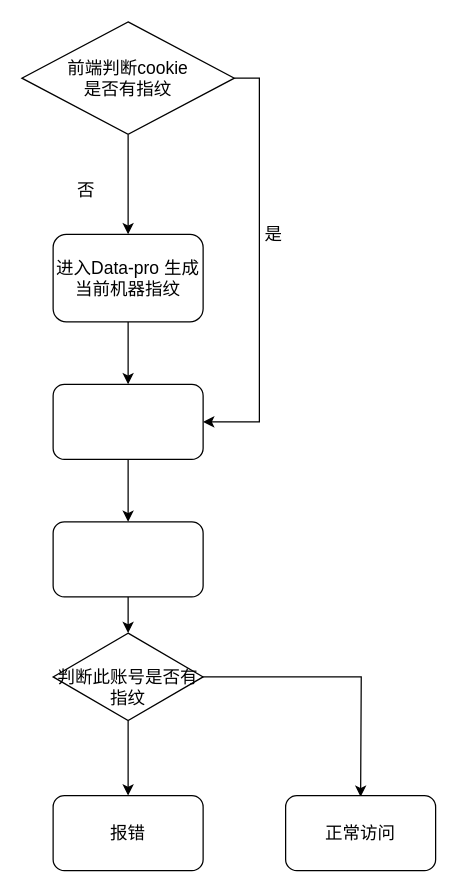
This 458x893 diagram has some shape labels left out. The centre of each missing label's shape, as x and y in pixels:
"后端redis内维护了个跟账号绑定的指纹数组" goes at (127,559).
"所有接口都带此指纹" goes at (127,421).
